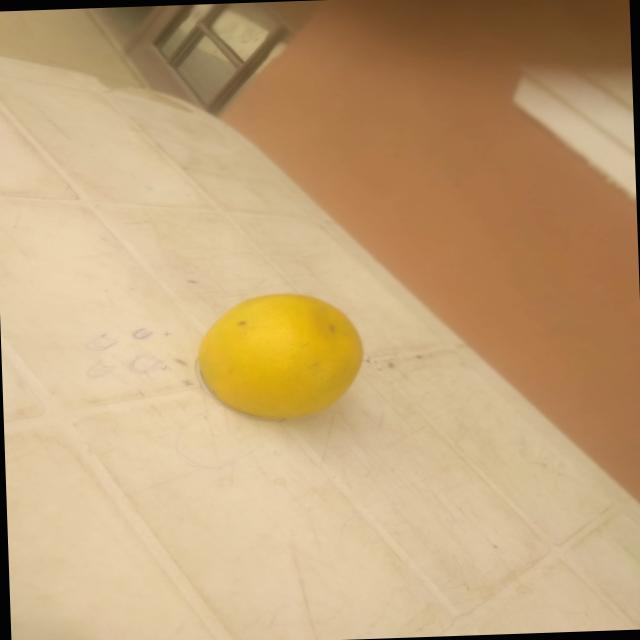Ripe orange: (184, 283, 370, 430)
